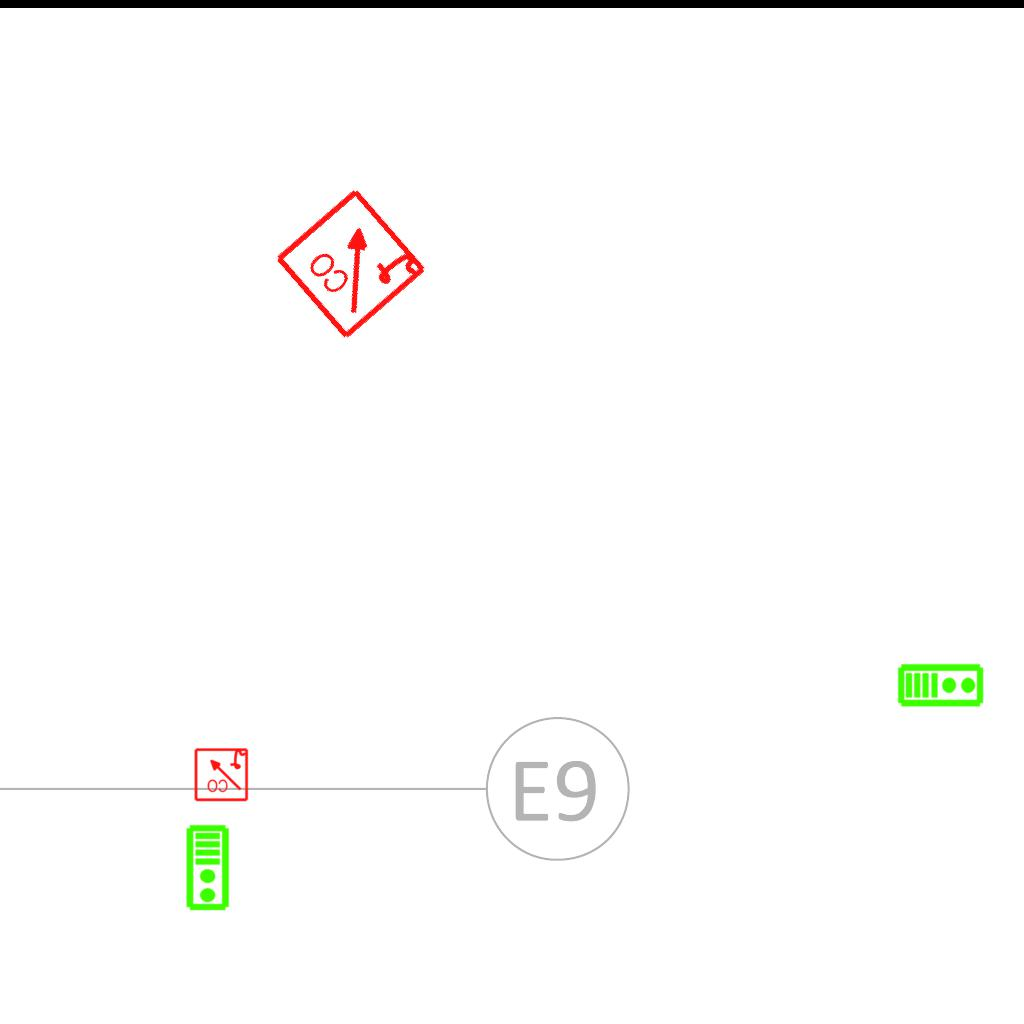Gegensprechanlage_mit_Video: (185, 824, 232, 912), (897, 661, 985, 708)
ROA_Rauchmelder_optisch_mit_Signalgeber_(Sockelsirene): (271, 182, 432, 343), (193, 746, 249, 802)
